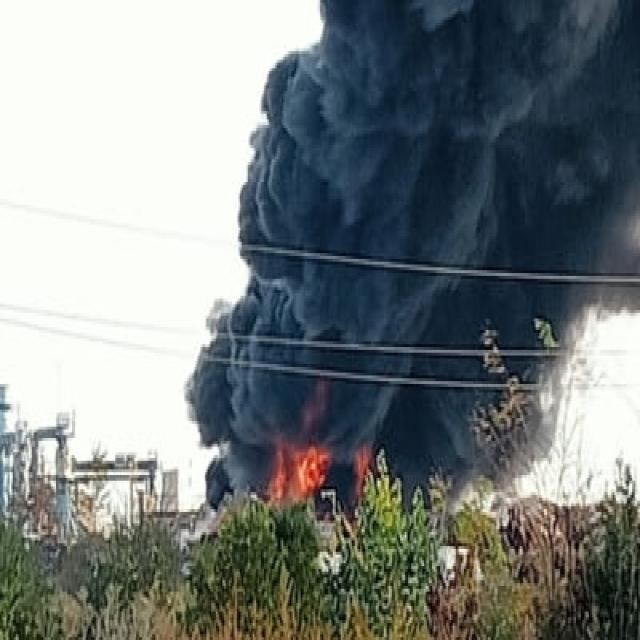Fire: (257, 427, 332, 510)
Smoke: (184, 0, 640, 495)
